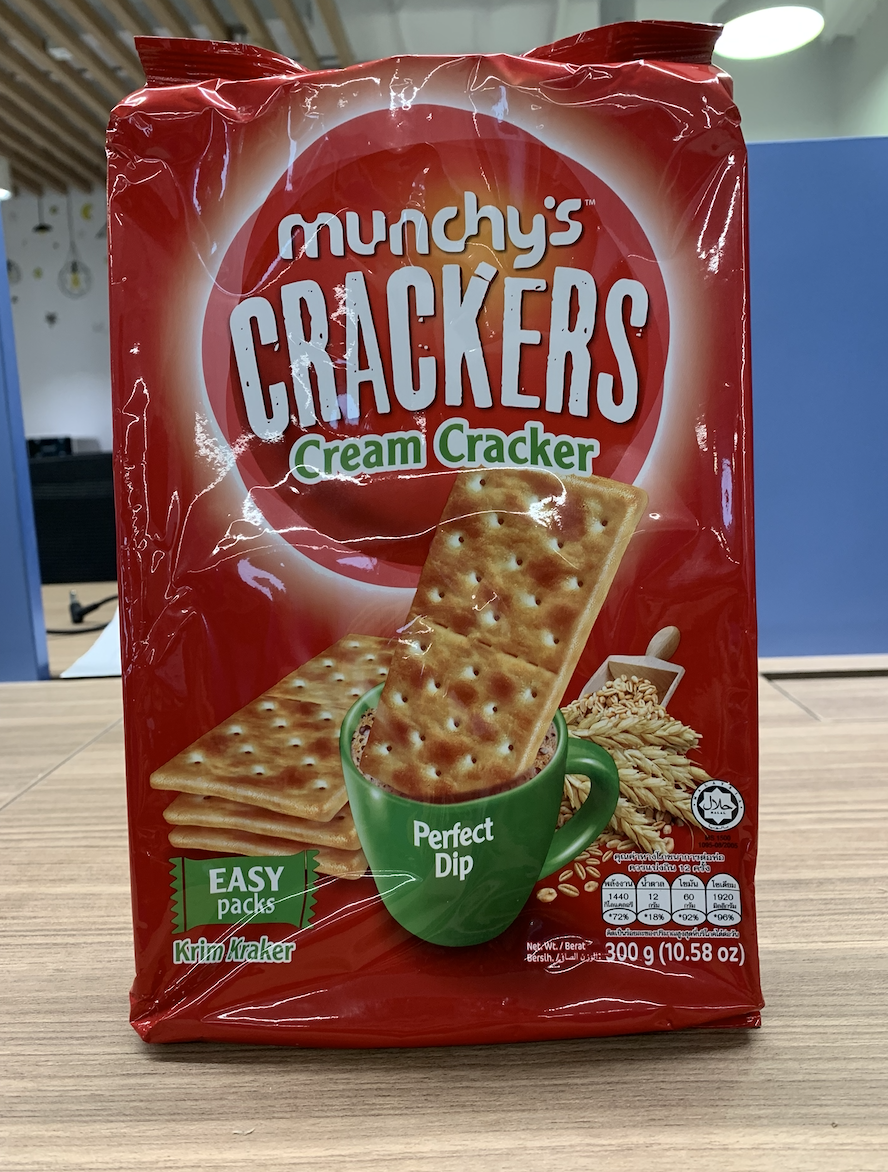crackers_150g: (137, 112, 754, 980)
